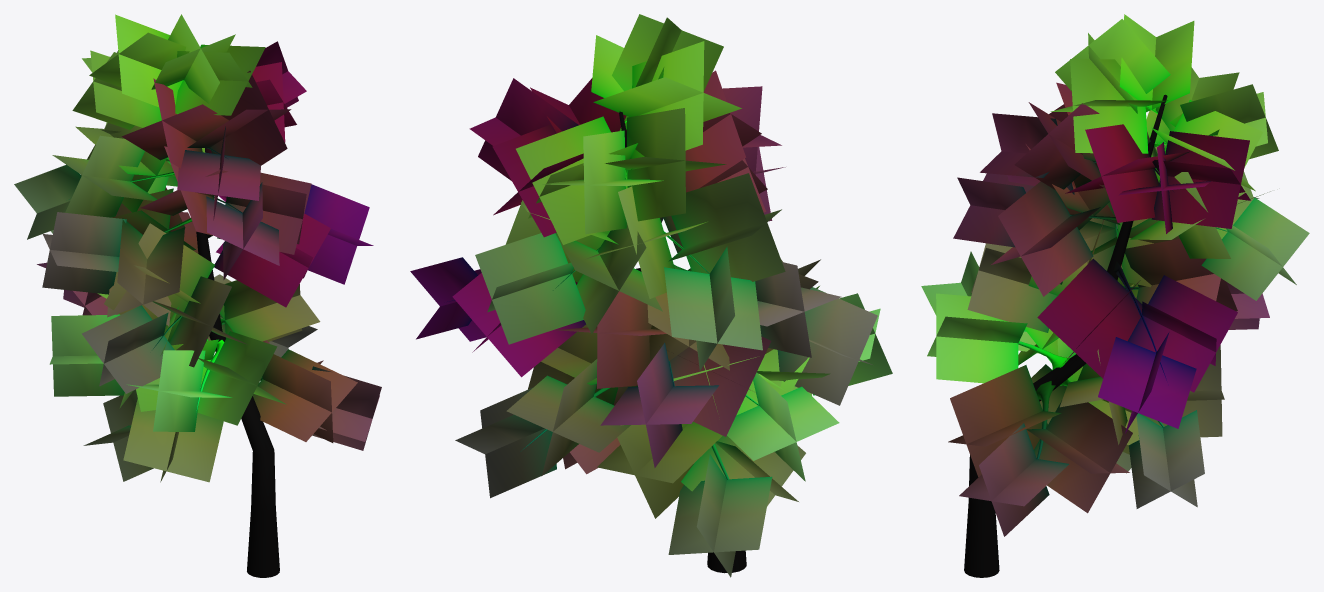
File: URP_P7_Tree_1_LOD_2.fbx
3 views of the same model, side by side, from view 1: azimuth 30°, elevation 25°; view 2: azimuth 150°, elevation 25°; view 3: azimuth 270°, elevation 25° (orthographic). The views are drawn at different scales.
Visible parts, largest first — view 1: Tree_1_LOD_2; view 2: Tree_1_LOD_2; view 3: Tree_1_LOD_2.
Part boxes in pixels (box(x1,y1,x2,y2)): Tree_1_LOD_2: box(14, 14, 381, 577); Tree_1_LOD_2: box(410, 14, 892, 577); Tree_1_LOD_2: box(921, 14, 1309, 577).
Size of the model in its own units: 282 by 406 by 263.
